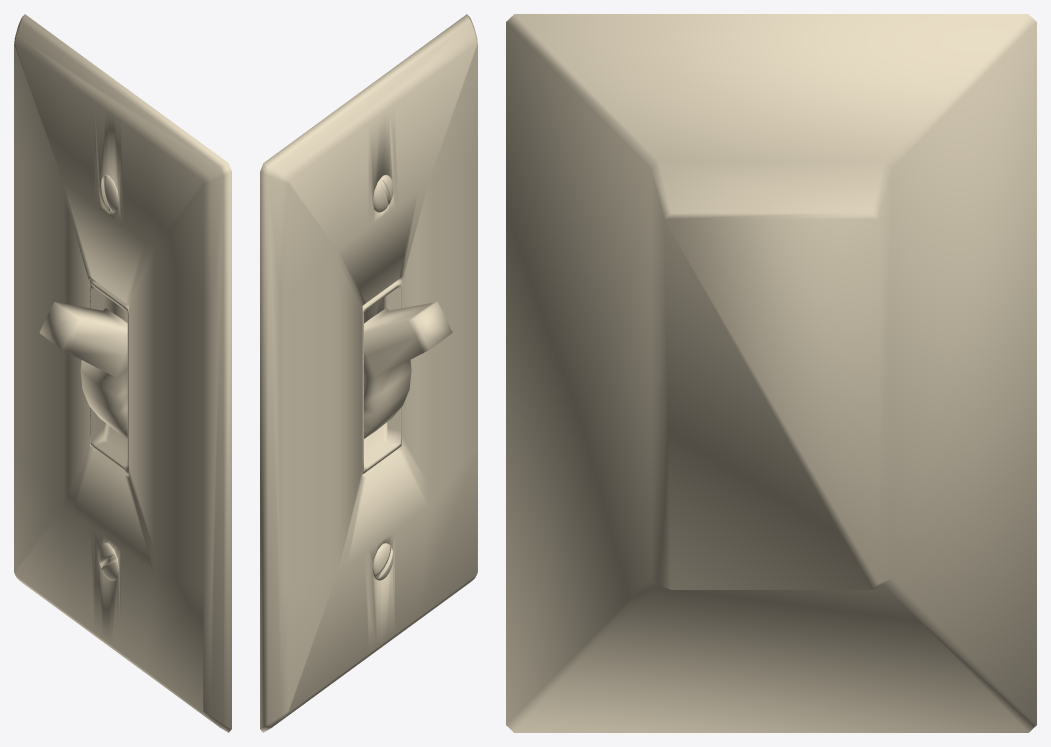
Rendered from lightswitch.fbx.
3 renders of one model, left to right at view 1: azimuth 30°, elevation 25°; view 2: azimuth 150°, elevation 25°; view 3: azimuth 270°, elevation 25°, orthographic. The views are drawn at different scales.
Parts seen in each view (by area): view 1: Lightswitch; view 2: Lightswitch; view 3: Lightswitch.
Part boxes in pixels (x1,y1,x2,y2): Lightswitch: (14, 14, 231, 732); Lightswitch: (260, 14, 477, 732); Lightswitch: (506, 14, 1036, 732).
Bounding box in the file's own units: 12.89 × 57.8 × 38.67.
